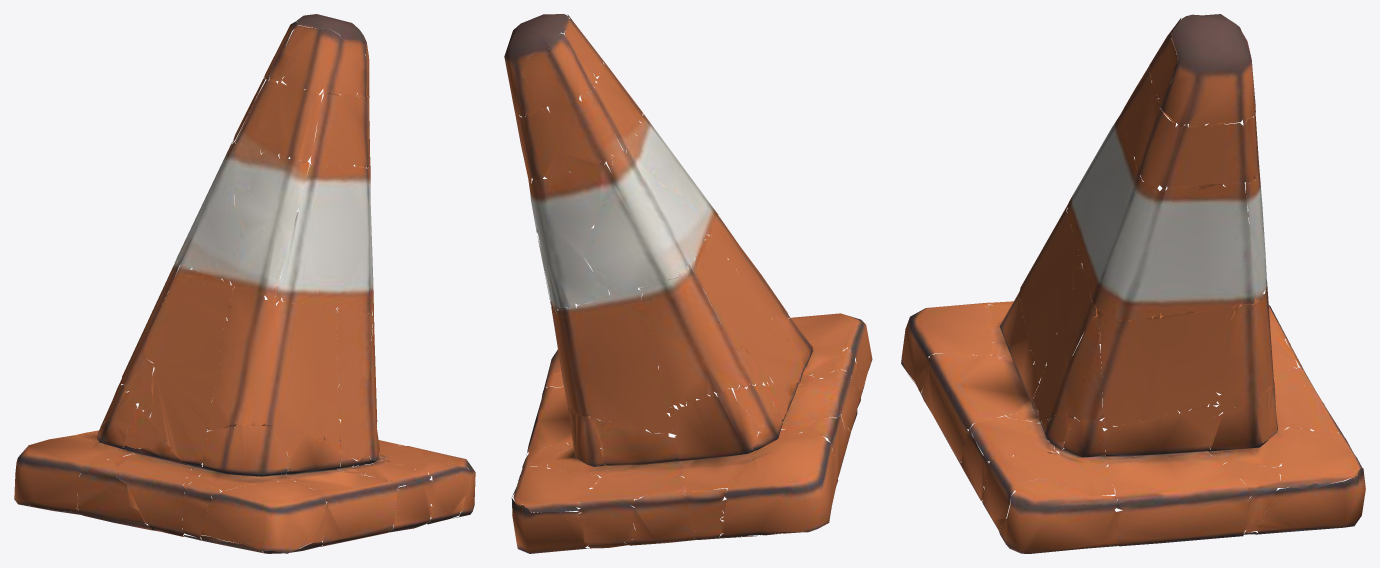
The model's file is prop07.glb.
3 views of the same model, side by side, from view 1: azimuth 30°, elevation 25°; view 2: azimuth 150°, elevation 25°; view 3: azimuth 270°, elevation 25° (orthographic). The views are drawn at different scales.
Visible parts, largest first — view 1: tripo_node_e7d969c6-a836-4b88-b01b-41c3fbba86b3; view 2: tripo_node_e7d969c6-a836-4b88-b01b-41c3fbba86b3; view 3: tripo_node_e7d969c6-a836-4b88-b01b-41c3fbba86b3.
Boxes of the visible parts, x1=… form: tripo_node_e7d969c6-a836-4b88-b01b-41c3fbba86b3: x1=14, y1=14, x2=475, y2=553; tripo_node_e7d969c6-a836-4b88-b01b-41c3fbba86b3: x1=504, y1=14, x2=872, y2=553; tripo_node_e7d969c6-a836-4b88-b01b-41c3fbba86b3: x1=901, y1=14, x2=1365, y2=553.
Bounding box in the file's own units: 0.797 × 1 × 0.7977.
1 material, 1 textured.
